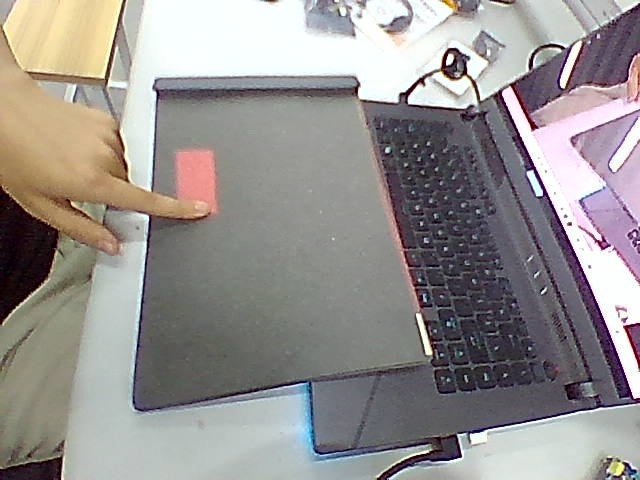card: (175, 149, 216, 214)
